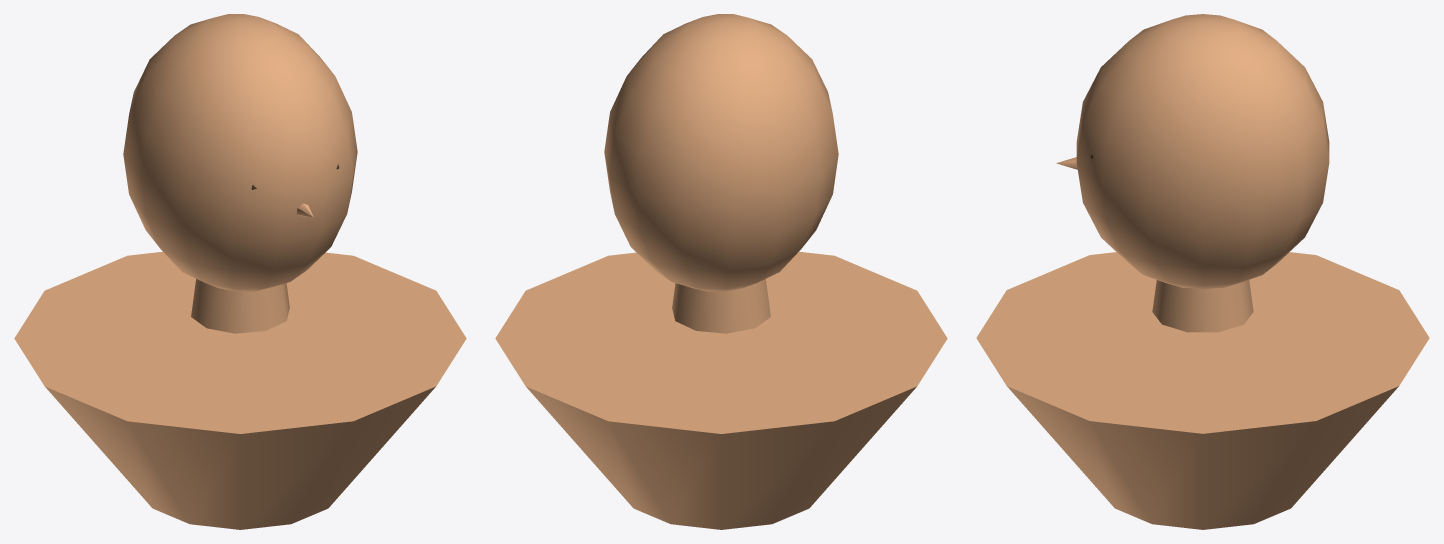
Rendered from raw_003.glb.
3 views of the same model, side by side, from view 1: azimuth 30°, elevation 25°; view 2: azimuth 150°, elevation 25°; view 3: azimuth 270°, elevation 25° (orthographic).
Bounding box in the file's own units: 1.88 × 2.12 × 1.88.
